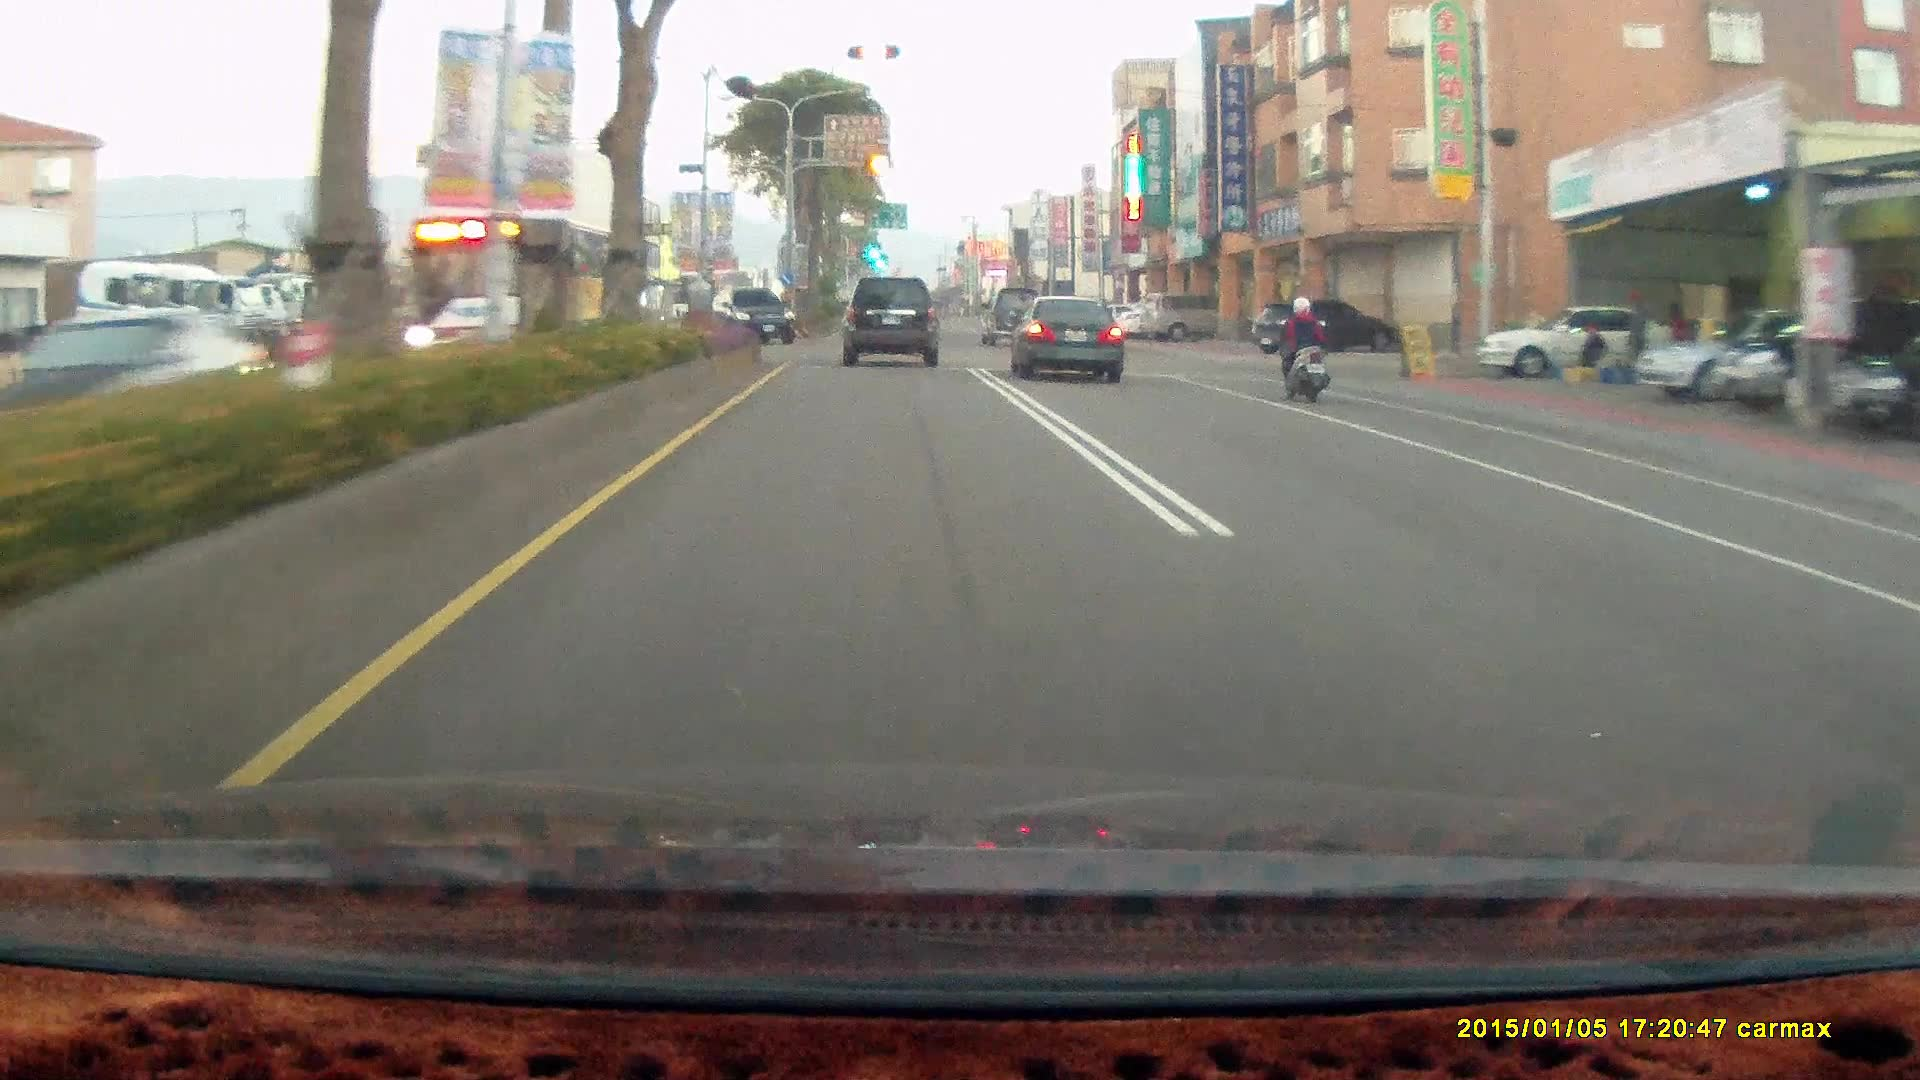pedestrian: (1626, 291, 1652, 381), (1666, 303, 1692, 372), (1578, 323, 1607, 383)
rider: (1268, 288, 1339, 411), (1272, 295, 1330, 402)
vehicle: (388, 210, 653, 365), (407, 207, 647, 363), (0, 304, 272, 442), (1, 305, 255, 414), (1693, 302, 1908, 429), (1632, 311, 1878, 408), (1710, 300, 1920, 413), (1640, 306, 1846, 404), (1466, 303, 1676, 377), (1473, 303, 1677, 378), (1013, 298, 1133, 393), (1002, 292, 1122, 380), (840, 281, 944, 373), (840, 275, 938, 367), (1252, 300, 1399, 359), (1251, 300, 1396, 358), (1841, 339, 1920, 437), (714, 285, 798, 346), (1147, 292, 1243, 341), (713, 286, 797, 343), (1139, 293, 1221, 346), (978, 286, 1043, 346)
